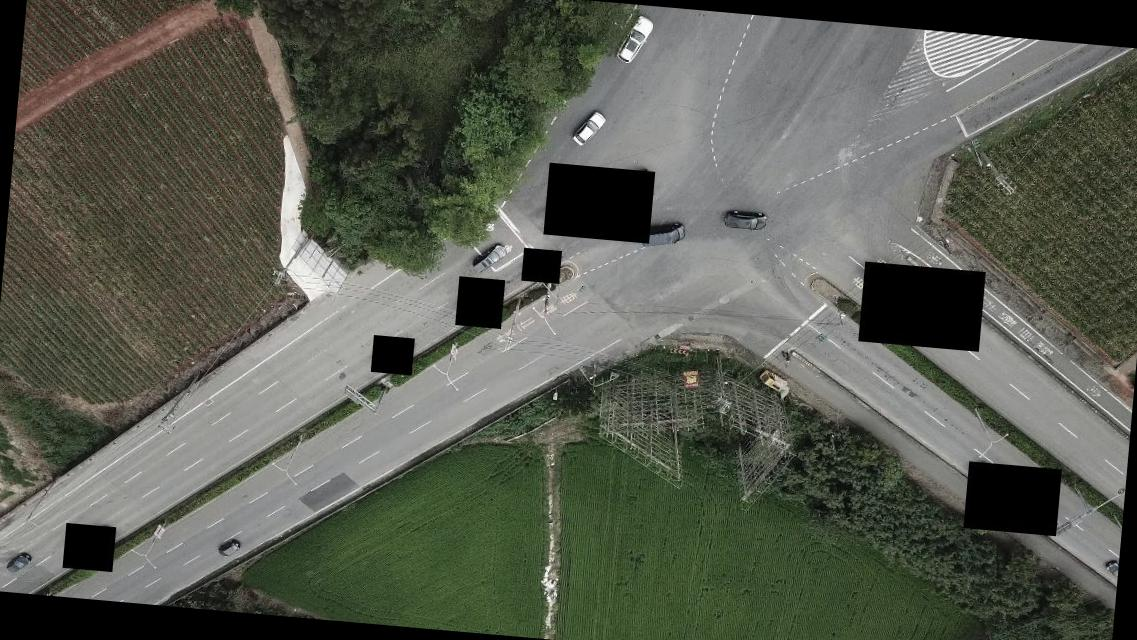vehicle: (614, 13, 653, 66), (633, 220, 685, 254), (570, 109, 606, 148), (470, 242, 506, 276), (722, 207, 766, 234), (758, 371, 787, 394), (5, 550, 31, 575), (215, 538, 242, 559)
